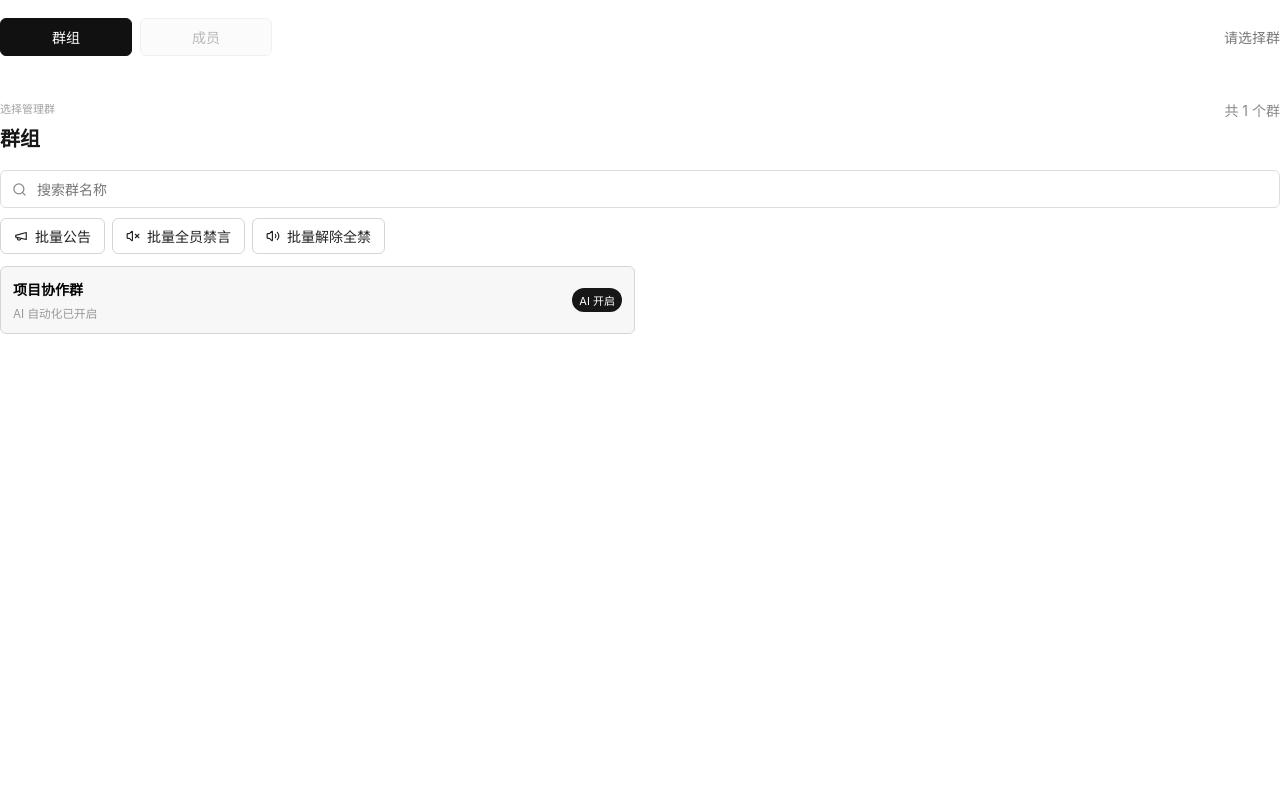
GroupMembersPage control tabs › requires manual verification for an unknown batch receipt
The width and height of the screenshot is (1280, 800).
Click the button "批量公告".
click(52, 236)  # box [0,218,105,254]
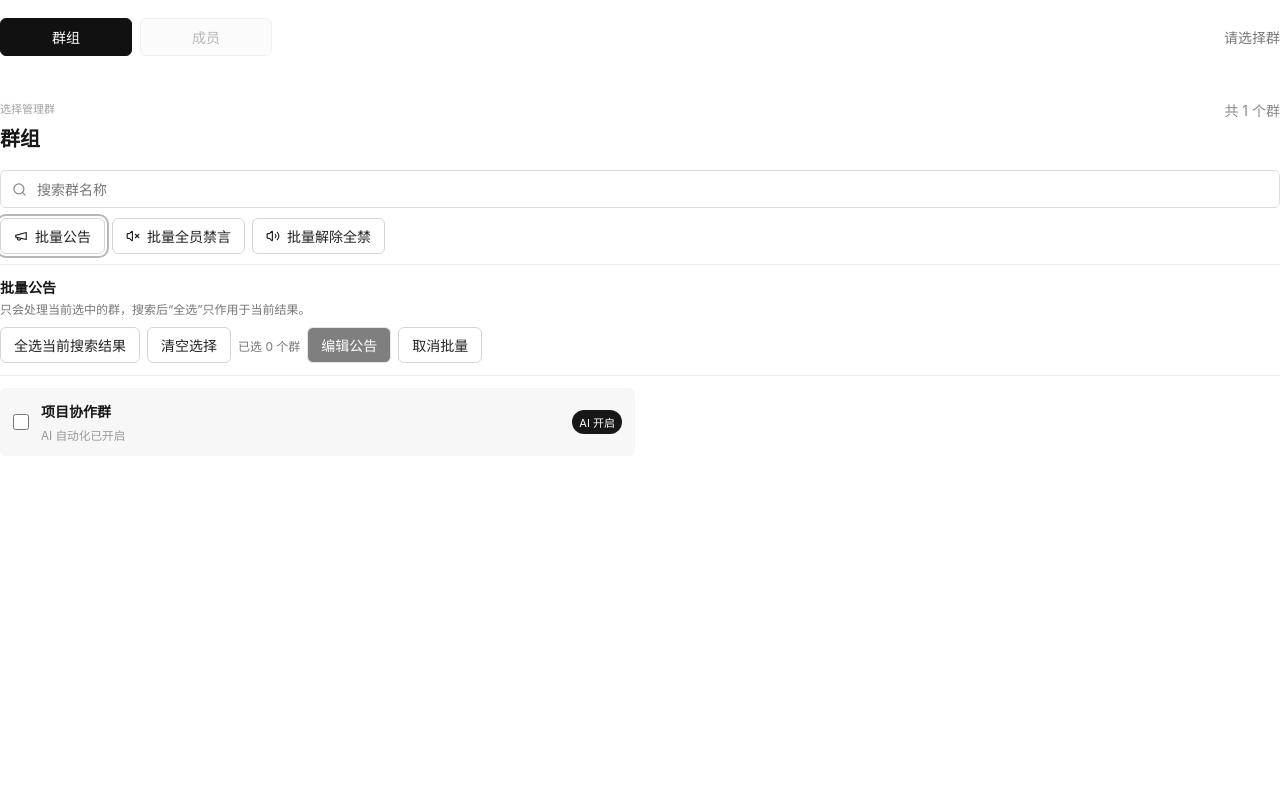
Click the button "全选当前搜索结果".
click(70, 345)  # box [0,327,140,363]
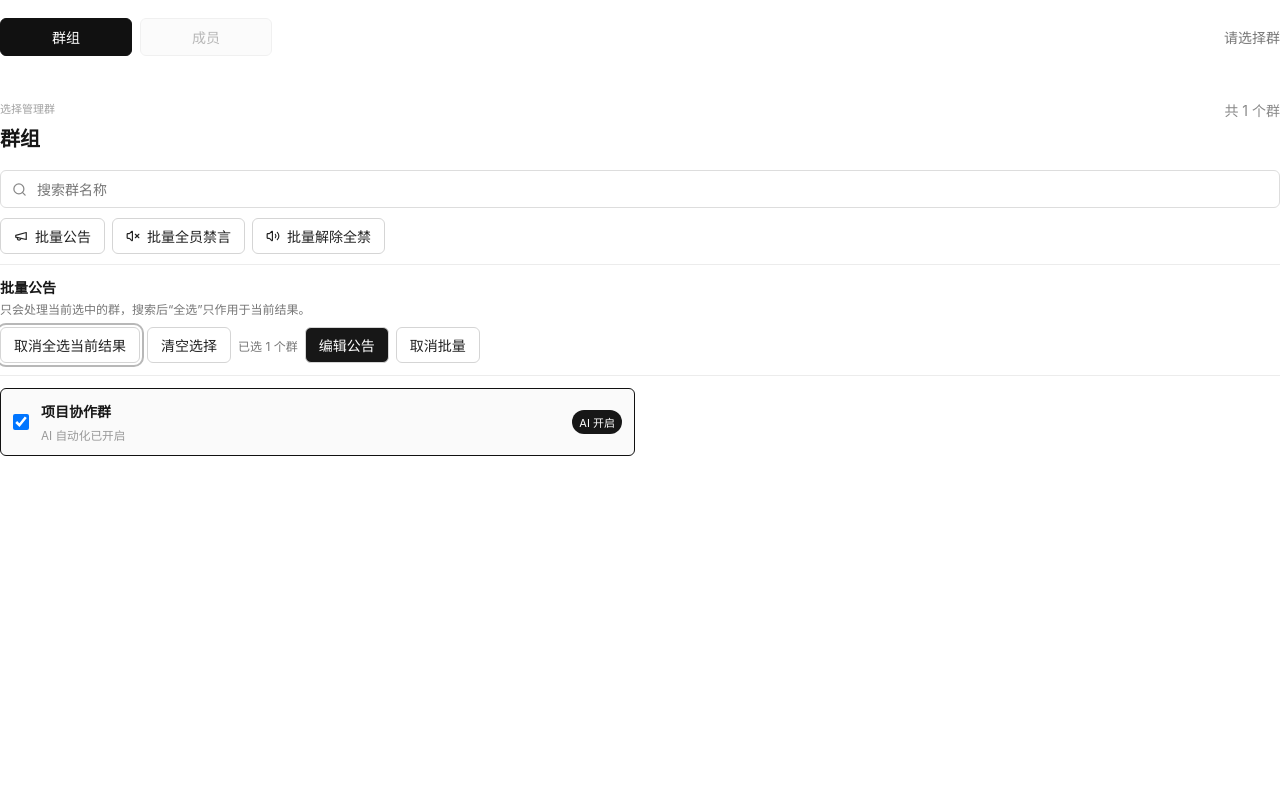
Click the button "编辑公告".
click(347, 345)  # box [305,327,389,363]
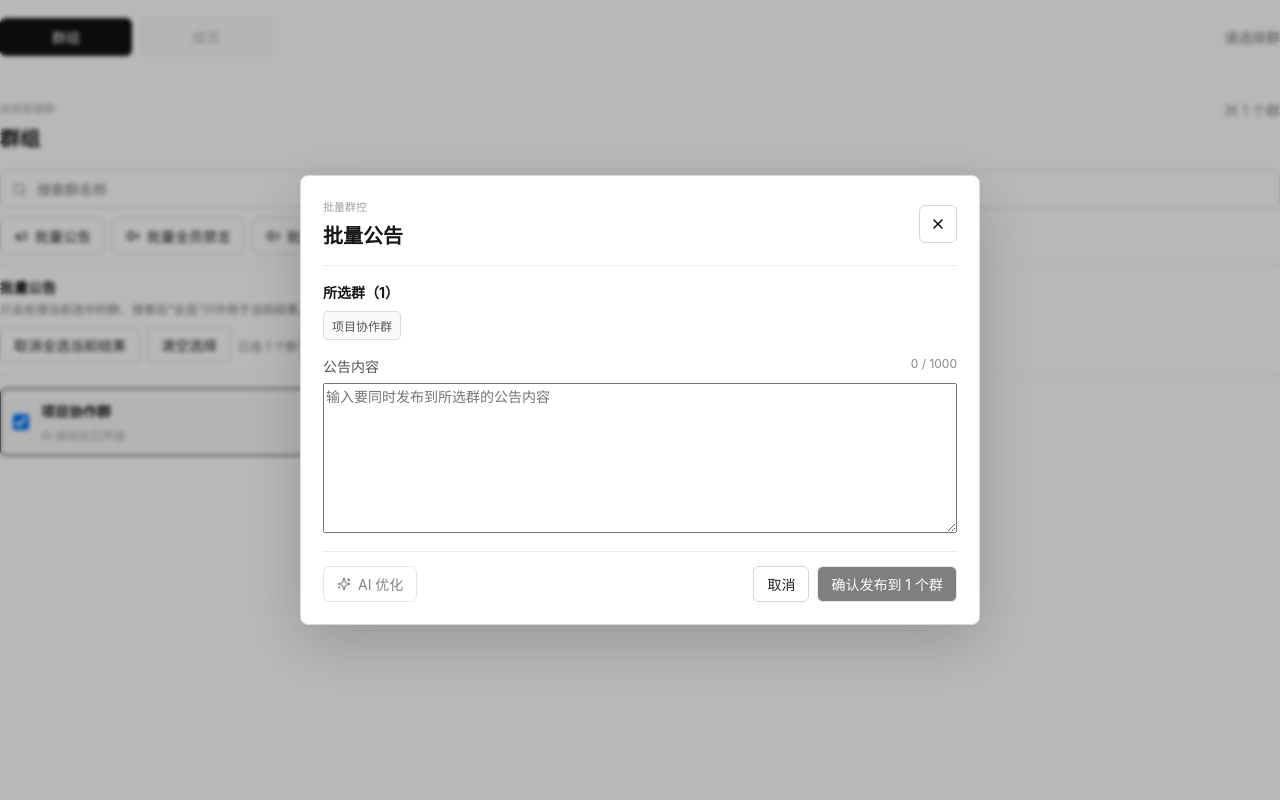
Type "待确认公告" into the text box with placeholder "输入要同时发布到所选群的公告内容".
click(640, 458); type("待确认公告")  # box [323,383,957,533]
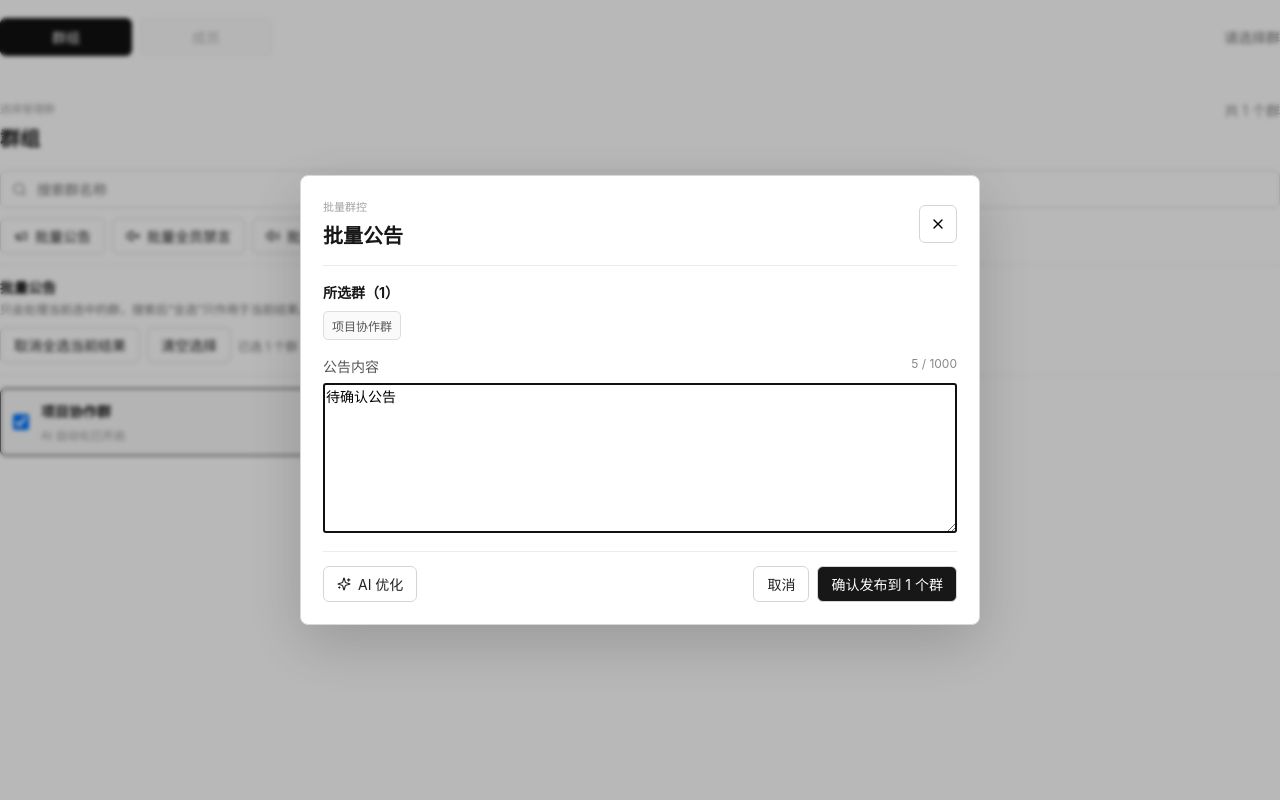
Click the button "确认发布到 1 个群".
click(887, 584)  # box [817,566,957,602]
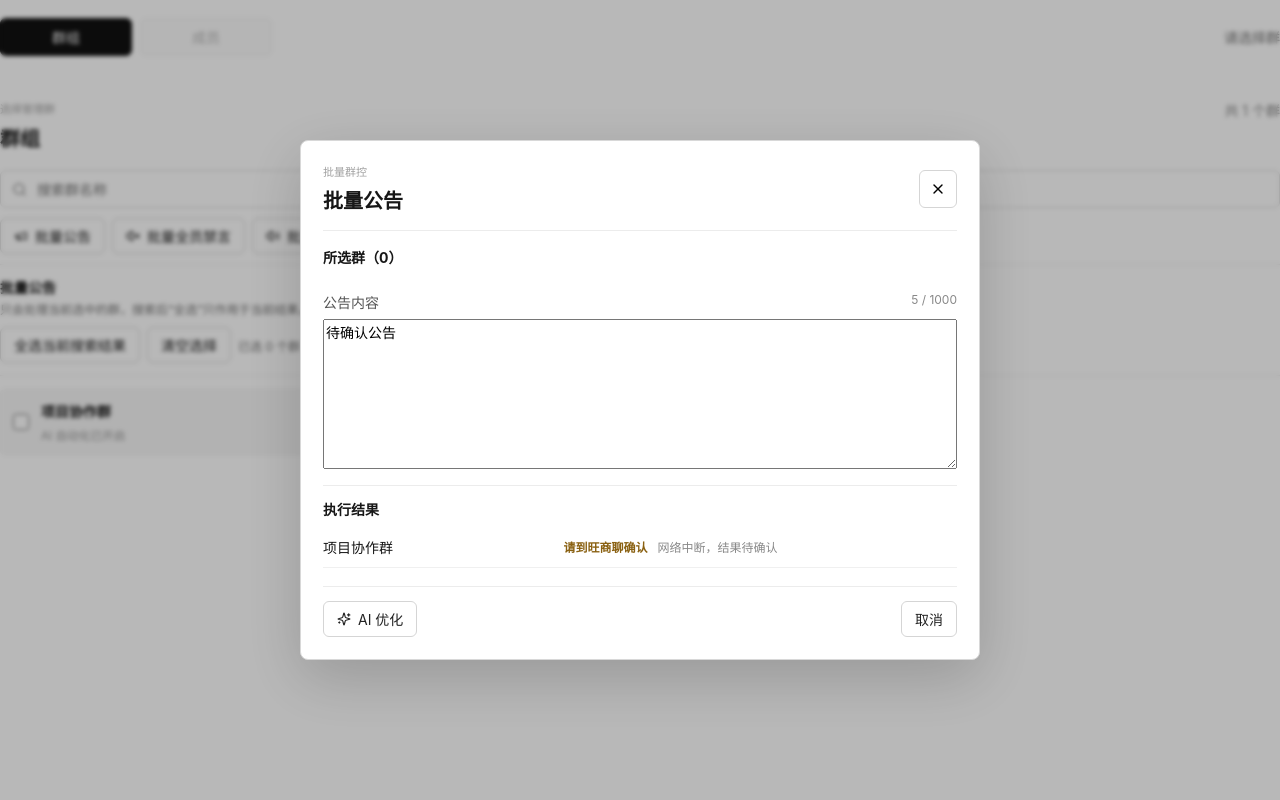
Expected: the text "请到旺商聊确认" is shown, [563,538,647,555]
Expected: the button "发布到" is gone
